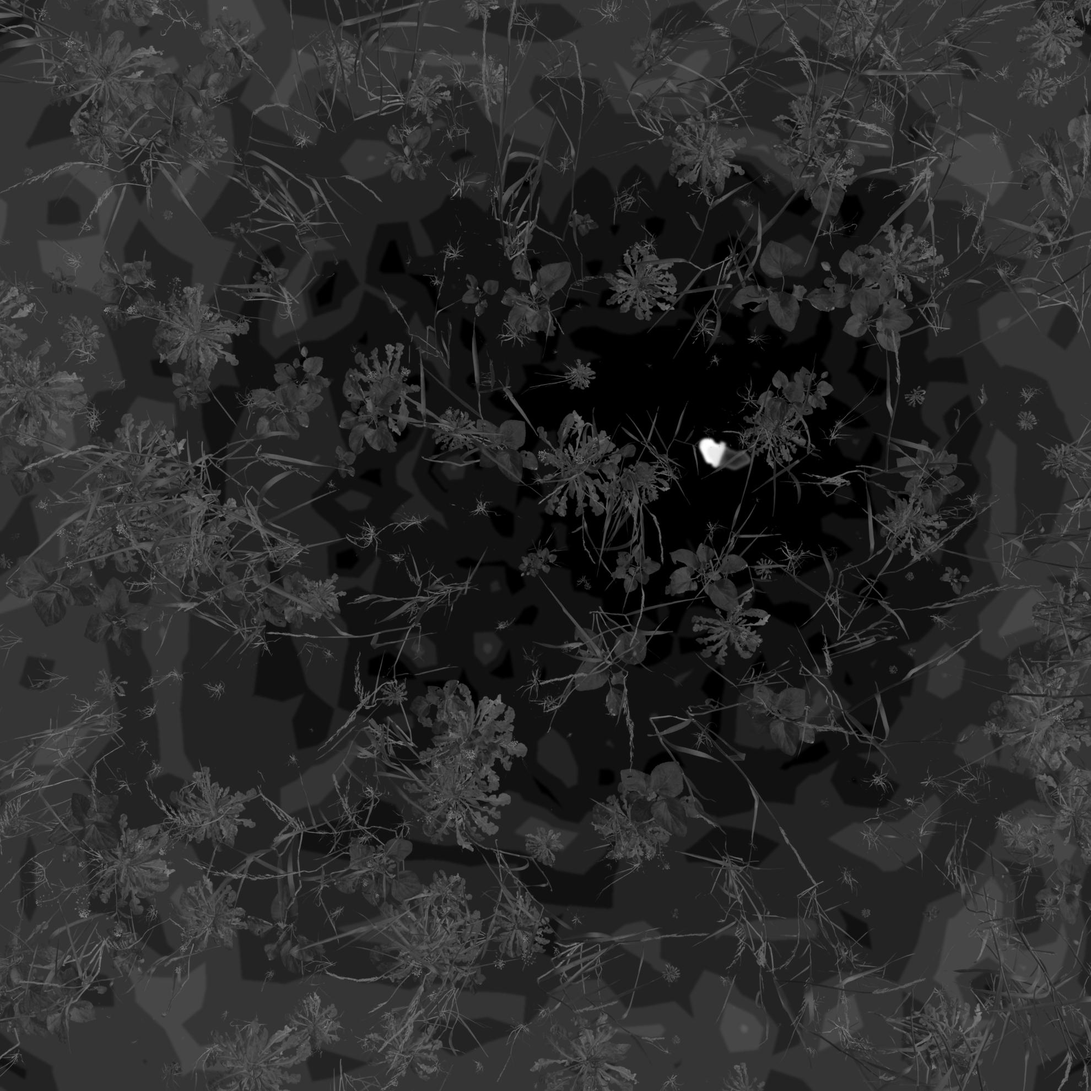landmine: (699, 433, 751, 471)
